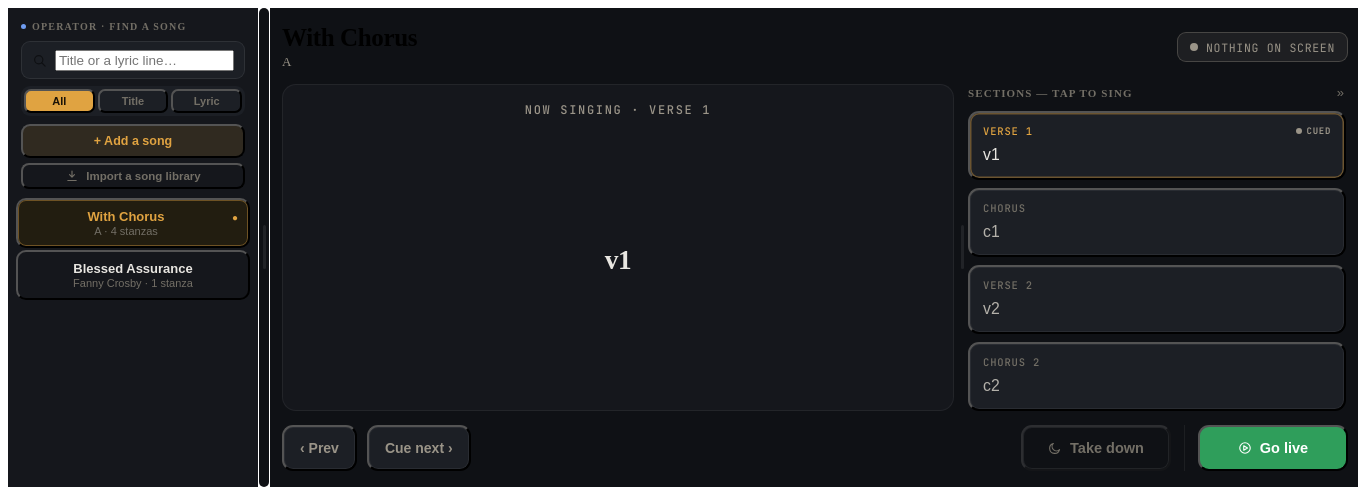
SongsMode armed switching › clicks while output is down select exactly as before (no arming)
Expected: the text "NOW SINGING · Verse 1" is shown, [525,102,711,118]
What coordinates should you click on to do the following:
click the text "Blessed Assurance"
I would click on:
 (133, 268)
Its box is [73,261,193,276].
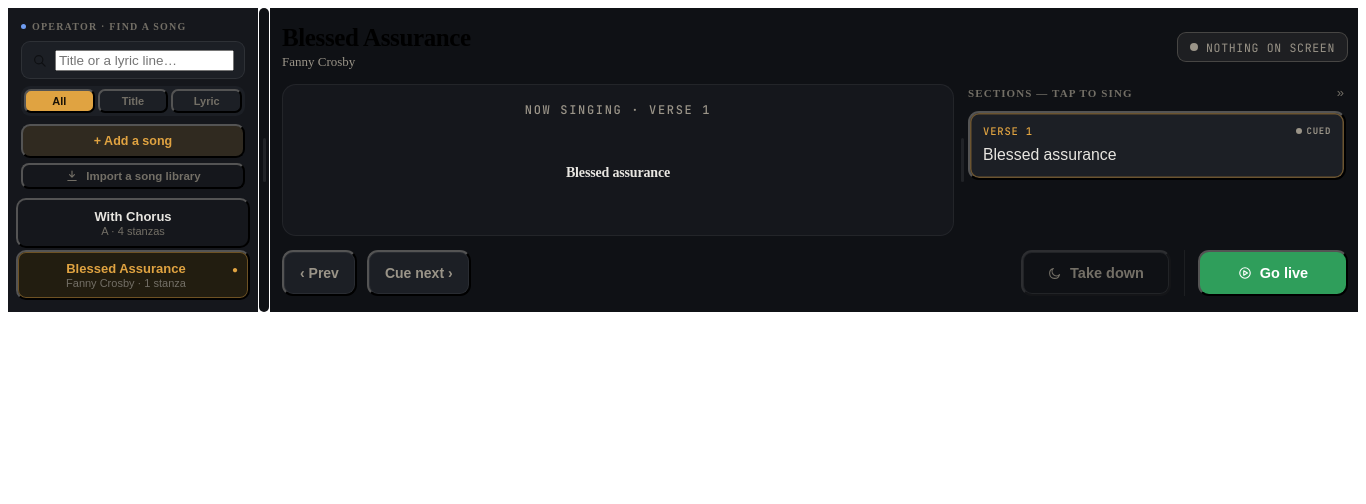
Expected: the text "Fanny Crosby" is shown, [282,54,355,69]
